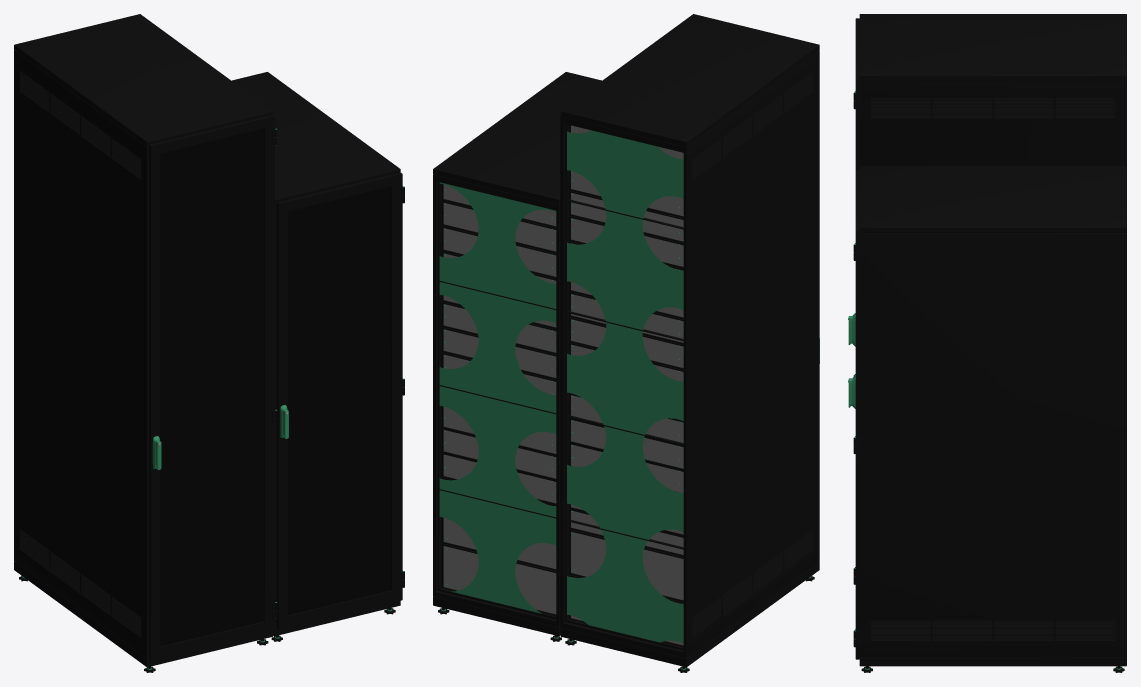
Rendered from 001_Servers.FBX.
3 views of the same model, side by side, from view 1: azimuth 30°, elevation 25°; view 2: azimuth 150°, elevation 25°; view 3: azimuth 270°, elevation 25° (orthographic).
Parts seen in each view (by area): view 1: Server_BIG, Server_SMALL; view 2: Server_BIG, Server_SMALL; view 3: Server_SMALL, Server_BIG.
Boxes of the visible parts, x1,y1,x2,y2 form: Server_BIG: [14, 14, 277, 672]; Server_SMALL: [232, 72, 404, 641]; Server_BIG: [560, 14, 819, 672]; Server_SMALL: [433, 72, 601, 641]; Server_SMALL: [848, 165, 1126, 672]; Server_BIG: [848, 14, 1126, 584].
Size of the model in its own units: 1203 by 2400 by 1131.
